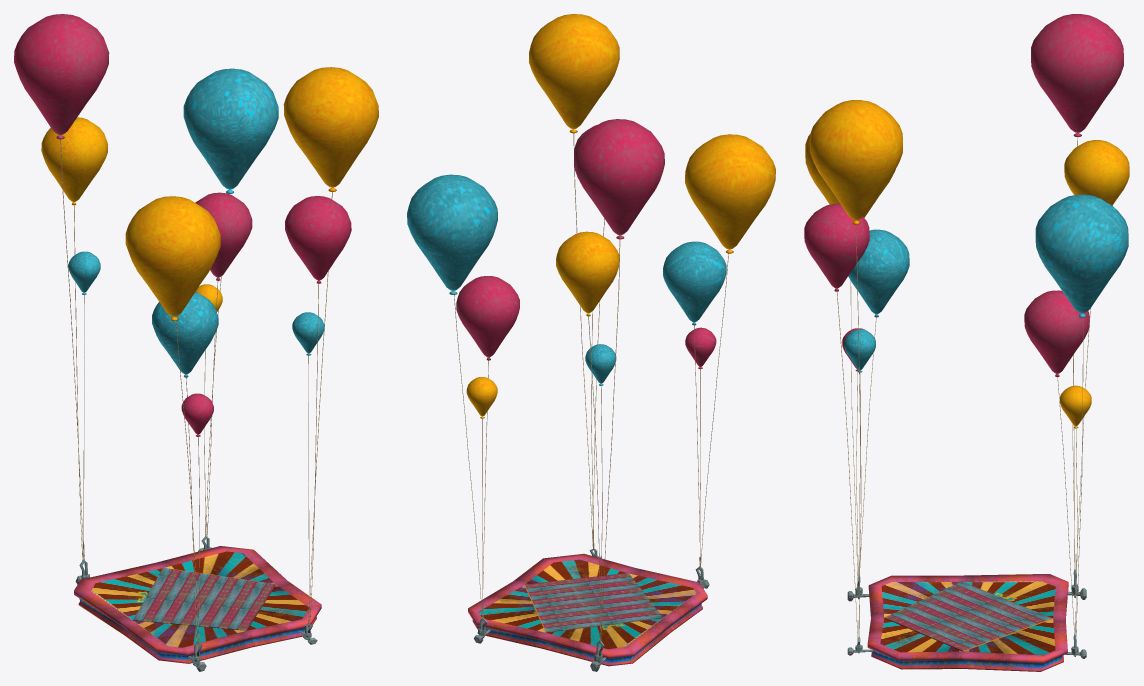
File: MOD_FloatingPF_Balloon_700_50_100.FBX
3 renders of one model, left to right at view 1: azimuth 30°, elevation 25°; view 2: azimuth 150°, elevation 25°; view 3: azimuth 270°, elevation 25°, orthographic. The views are drawn at different scales.
Visible parts, largest first — view 1: MOD_FloatingPF_Balloon_700_50_700; view 2: MOD_FloatingPF_Balloon_700_50_700; view 3: MOD_FloatingPF_Balloon_700_50_700.
Part boxes in pixels (left/top/right/bottom): MOD_FloatingPF_Balloon_700_50_700: left=14, top=14, right=378, bottom=671; MOD_FloatingPF_Balloon_700_50_700: left=407, top=14, right=775, bottom=671; MOD_FloatingPF_Balloon_700_50_700: left=804, top=14, right=1129, bottom=671.
Size of the model in its own units: 713 by 1537 by 794.
Materials: 1 (1 with a texture image).
